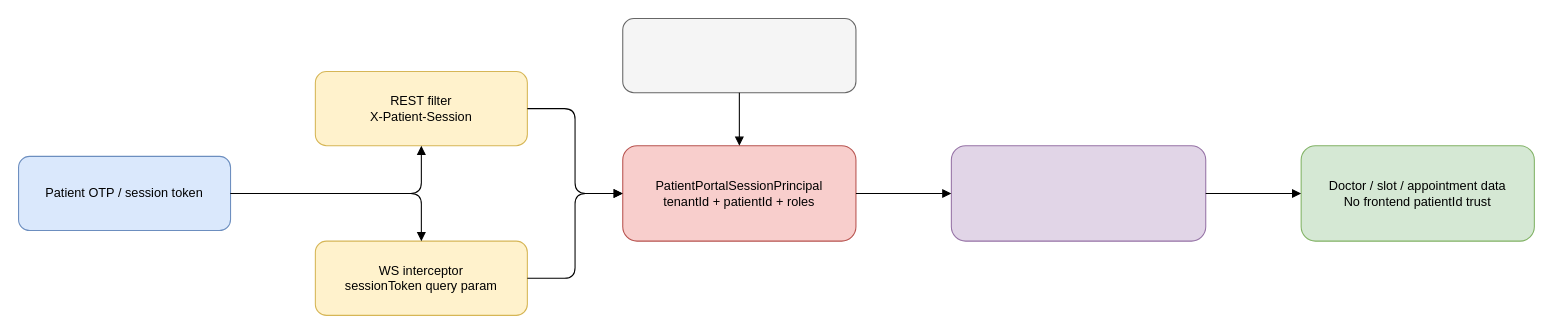
This 1553x334 diagram has some shape labels left out. Here are the shapes that lost their labels. From the top down, the centre of each, then its label:
At point 739,55: "SecurityConfig Permit patient voice path only".
At point 1078,193: "PatientPortalService Patient- and tenant-scoped authorization".
